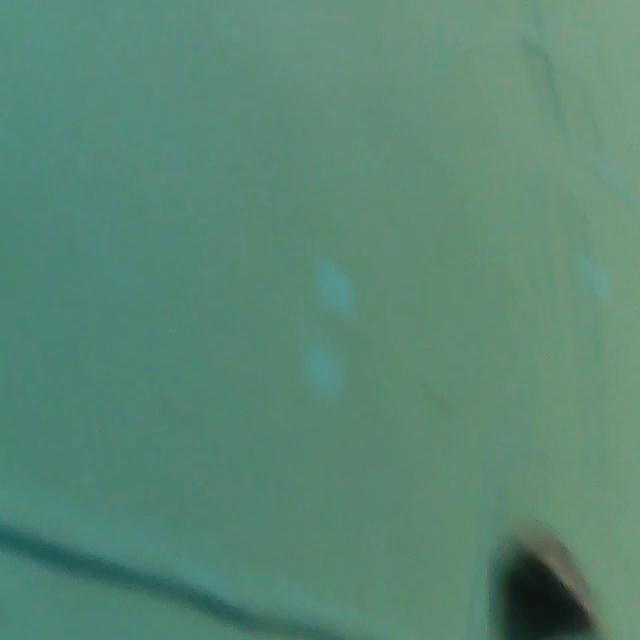rock: (503, 523, 599, 640)
